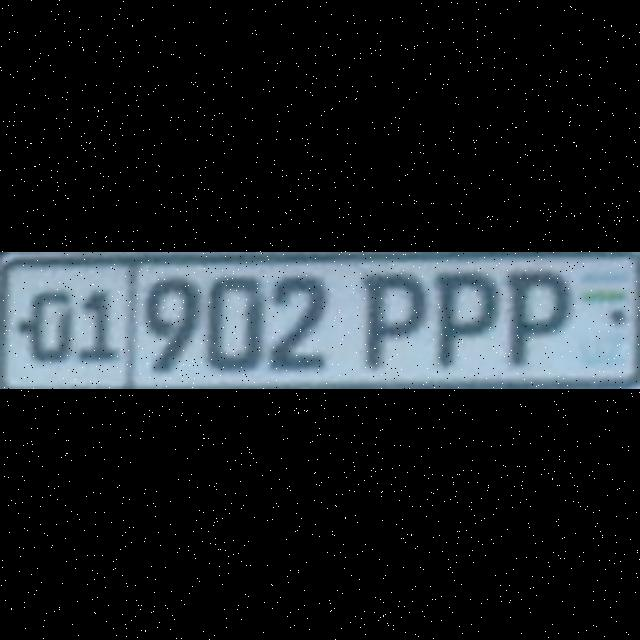0: (203, 274, 260, 368), (28, 288, 70, 360)
1: (76, 288, 114, 360)
2: (268, 272, 322, 368)
9: (143, 277, 195, 368)
P: (432, 266, 494, 366), (508, 266, 570, 366), (362, 270, 424, 368)
